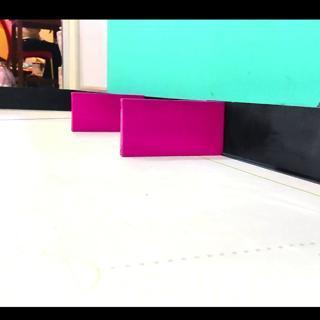xparking: (124, 102, 222, 156), (74, 95, 120, 132)
